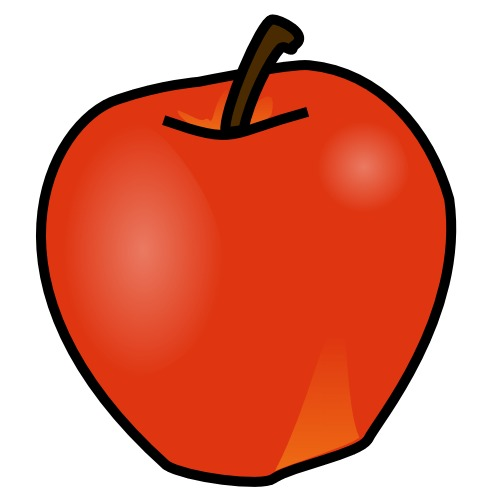apple: (23, 55, 458, 497)
